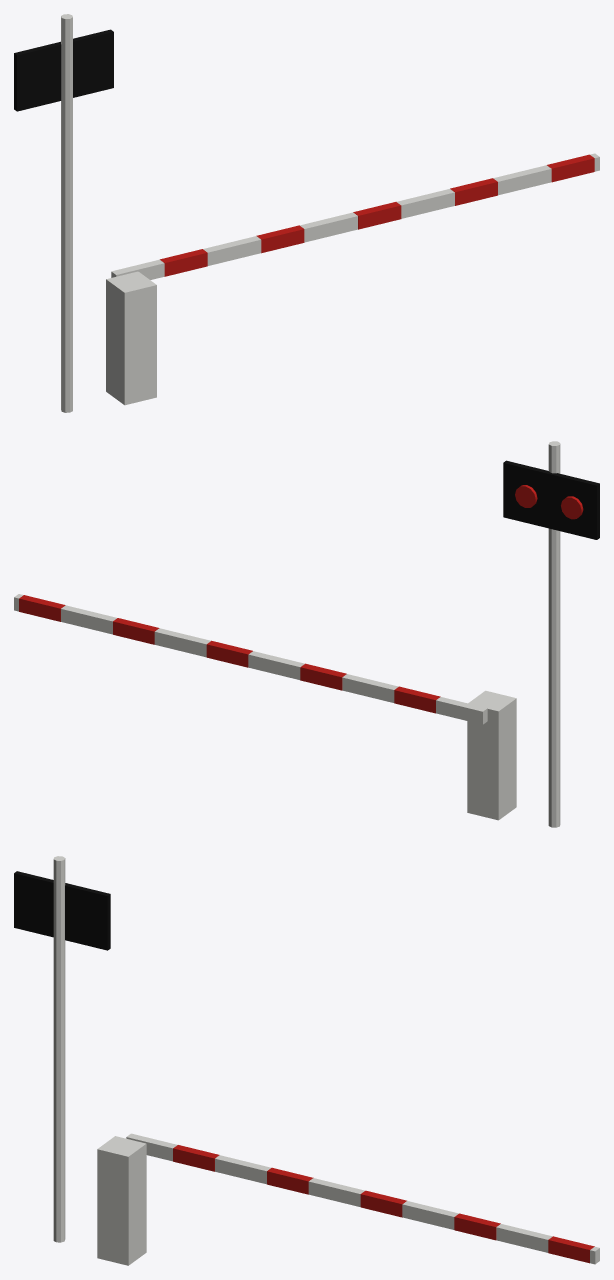
File: rail.feature.level_crossing.glb
3 renders of one model, top to bottom at view 1: azimuth 30°, elevation 25°; view 2: azimuth 150°, elevation 25°; view 3: azimuth 330°, elevation 25°, orthographic. The views are drawn at different scales.
Parts seen in each view (by area): view 1: main__paint_white, main__plastic_black, main__hazard_red; view 2: main__paint_white, main__plastic_black, main__hazard_red; view 3: main__paint_white, main__plastic_black, main__hazard_red.
Boxes of the visible parts, <box> form: main__paint_white: <box>61,14,599,412</box>; main__plastic_black: <box>14,29,113,111</box>; main__hazard_red: <box>160,154,594,276</box>; main__paint_white: <box>14,441,560,827</box>; main__plastic_black: <box>503,460,599,539</box>; main__hazard_red: <box>19,485,583,713</box>; main__paint_white: <box>53,856,599,1265</box>; main__plastic_black: <box>14,871,110,950</box>; main__hazard_red: <box>173,1145,594,1263</box>.
Bounding box in the file's own units: 5.5 × 3.5 × 0.391.
